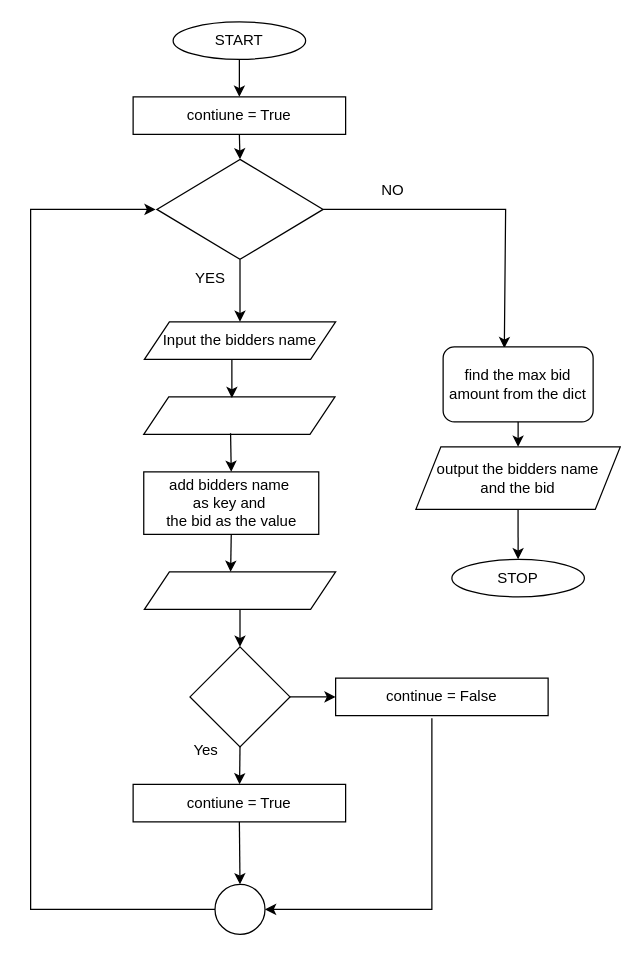
Image size: 643x956. Some labels were removed from this diagram. Here are the shapes that lost their labels. From the top down, the centre of each, then its label:
point (239, 208): continue != False ?
point (238, 415): Input the bid
point (239, 590): Input "yes" to continue "no" to stop
point (239, 696): yes or no?
